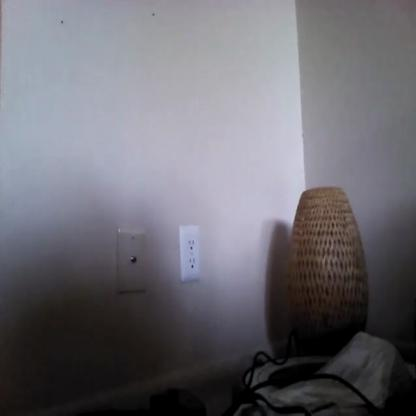OUTLET: (178, 223, 201, 281)
